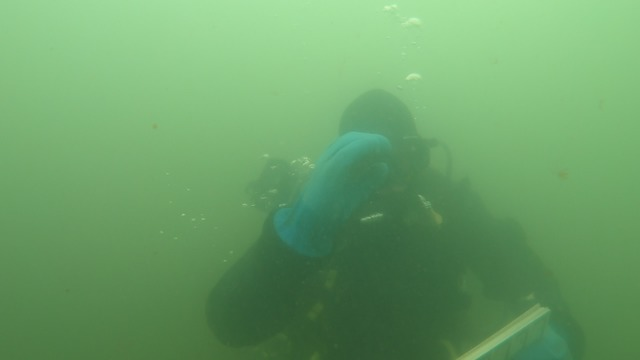Diver: (197, 81, 597, 358)
Hand: (276, 129, 390, 255)
Head: (332, 81, 442, 238)
